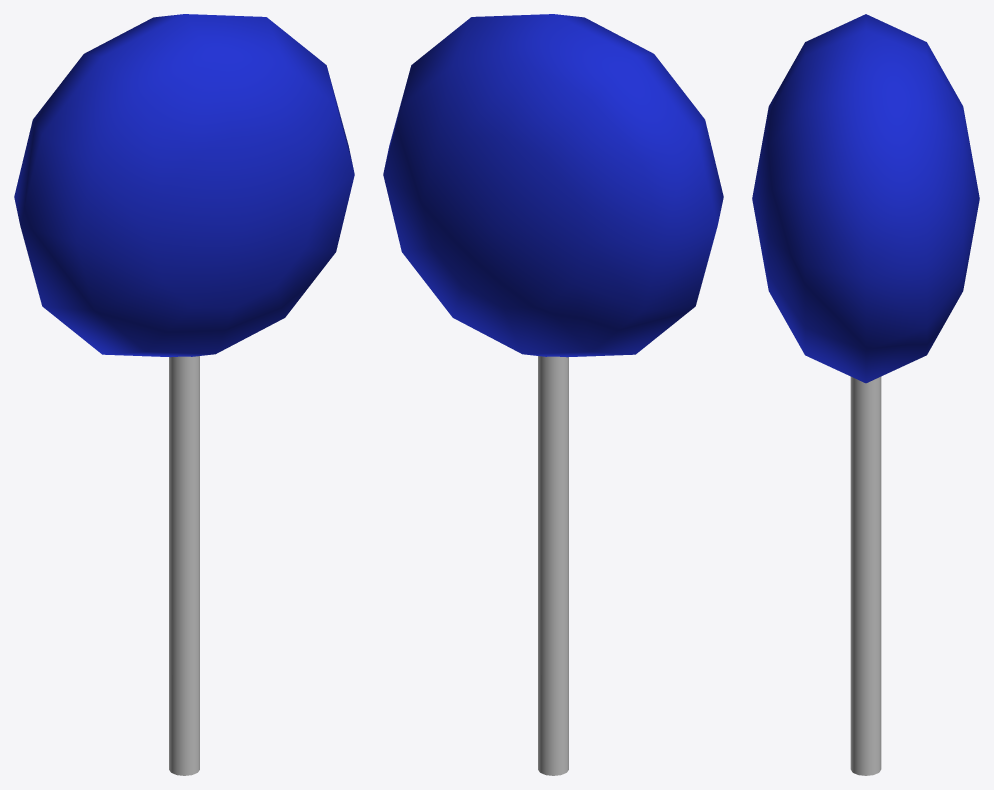
The model's file is 3D_LollyPop_Circle_Blue.FBX.
3 renders of one model, left to right at view 1: azimuth 30°, elevation 25°; view 2: azimuth 150°, elevation 25°; view 3: azimuth 270°, elevation 25°, orthographic. The views are drawn at different scales.
Parts seen in each view (by area): view 1: 3D_LollyPop_Circle_Blue; view 2: 3D_LollyPop_Circle_Blue; view 3: 3D_LollyPop_Circle_Blue.
Boxes of the visible parts, x1,y1,x2,y2 form: 3D_LollyPop_Circle_Blue: [14, 14, 354, 775]; 3D_LollyPop_Circle_Blue: [383, 14, 723, 775]; 3D_LollyPop_Circle_Blue: [752, 14, 979, 775].
Bounding box in the file's own units: 29.66 × 65.19 × 18.21.
